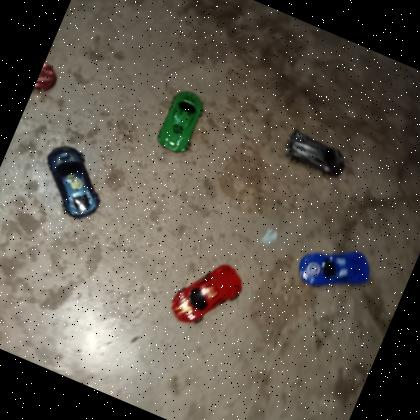Car: (26, 136, 118, 226), (165, 247, 252, 341), (291, 229, 381, 308), (152, 83, 214, 158), (278, 123, 355, 182)
